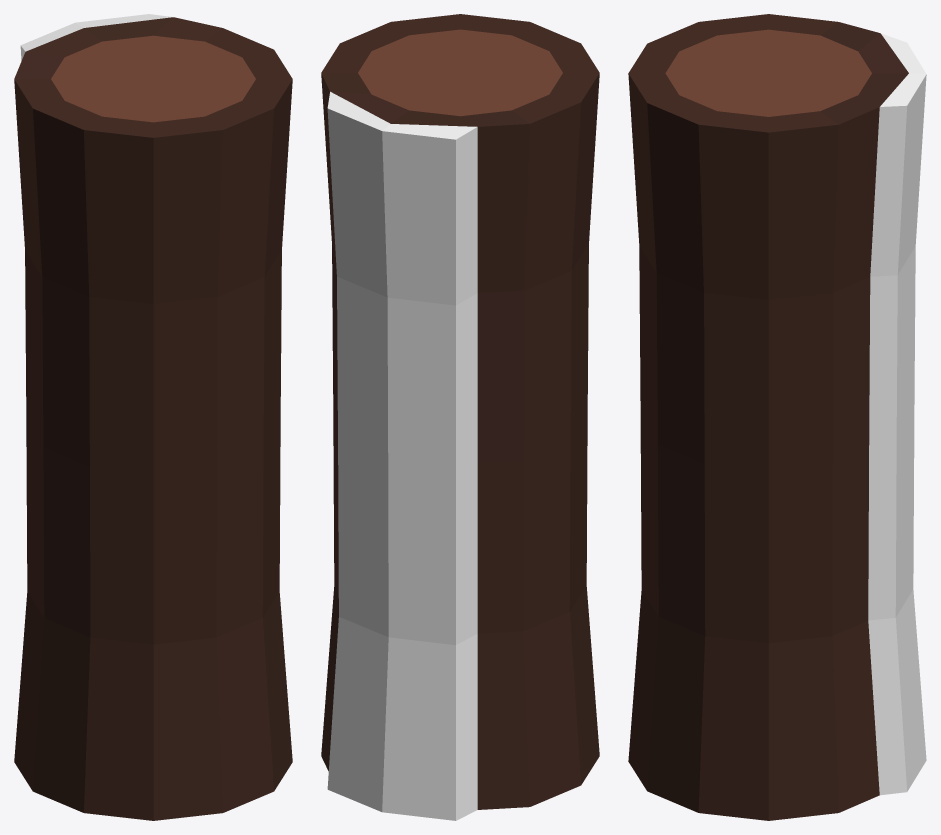
The model's file is Log.fbx.
3 renders of one model, left to right at view 1: azimuth 30°, elevation 25°; view 2: azimuth 150°, elevation 25°; view 3: azimuth 270°, elevation 25°, orthographic.
Visible parts, largest first — view 1: Log; view 2: Log; view 3: Log.
Part boxes in pixels (left/top/right/bottom): Log: left=14, top=14, right=292, bottom=820; Log: left=321, top=14, right=599, bottom=820; Log: left=628, top=14, right=926, bottom=820.
Size of the model in its own units: 73.92 by 201 by 78.53.
1 material, 1 textured.
